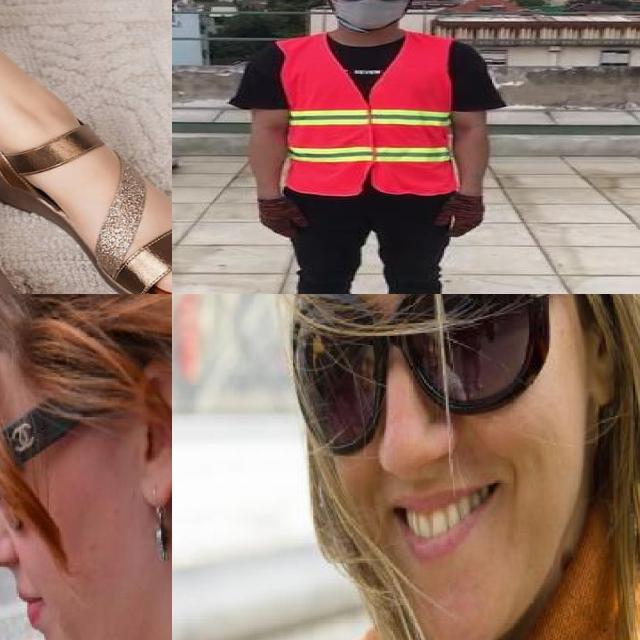No_Ear-Protection: (123, 355, 172, 513)
Sandals: (0, 108, 172, 294)
face_mask: (326, 0, 412, 28)
face_nomask: (286, 294, 532, 567), (0, 406, 111, 640)
glasses: (293, 294, 579, 456)
hand_glove: (435, 195, 487, 236), (256, 197, 307, 238)
head_nohelmet: (0, 294, 172, 400)
person: (239, 0, 502, 294)
vest: (272, 34, 454, 195)
